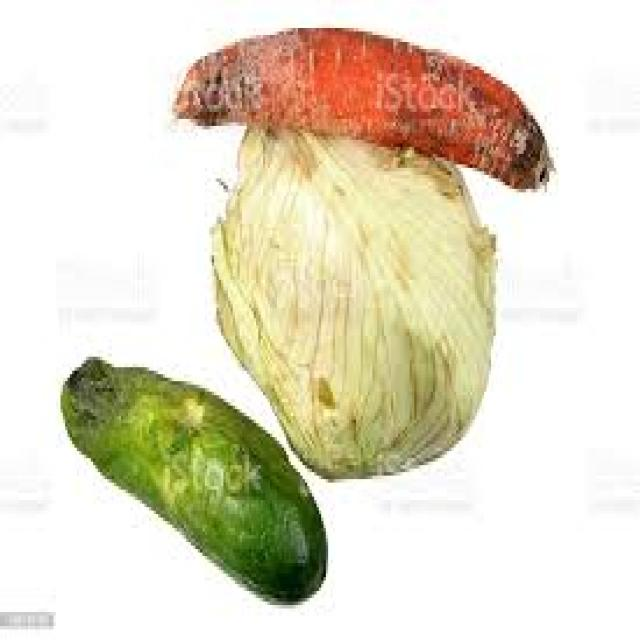organic: (180, 17, 539, 483), (67, 357, 327, 603)
